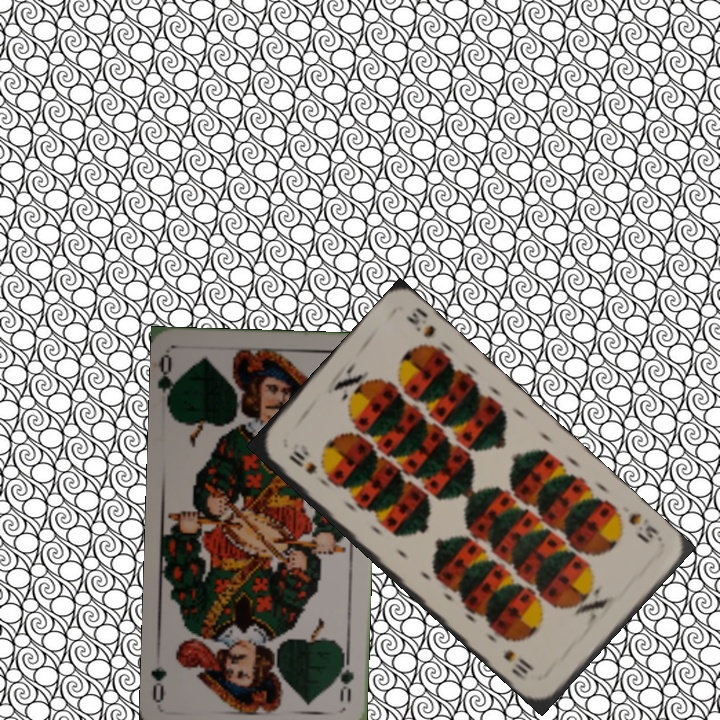GO: (156, 351, 183, 411), (333, 647, 356, 704)
S10: (624, 509, 662, 546), (285, 446, 320, 477)
